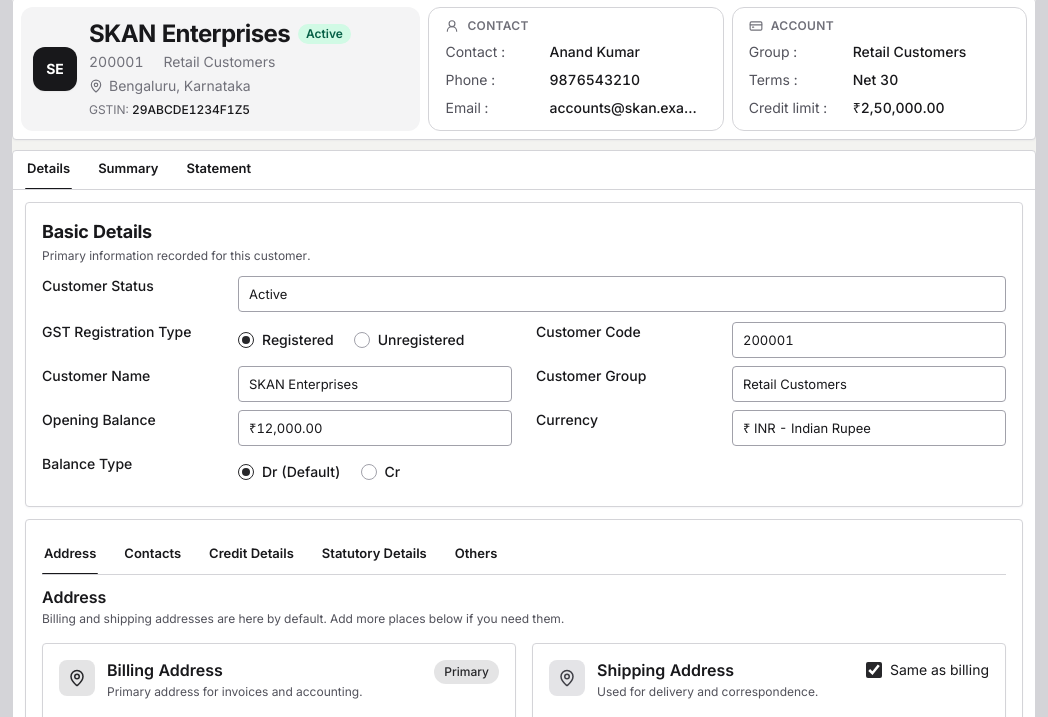
Test: CustomerDetailPage › shows the customer master fields saved by the creation form
Expected: the heading "SKAN Enterprises" is shown, [89,20,290,48]
Expected: the text "200001" is shown, [89,52,144,72]
Step 1. Click the tab "Contacts" → (153, 555), box [122,536,183,574]
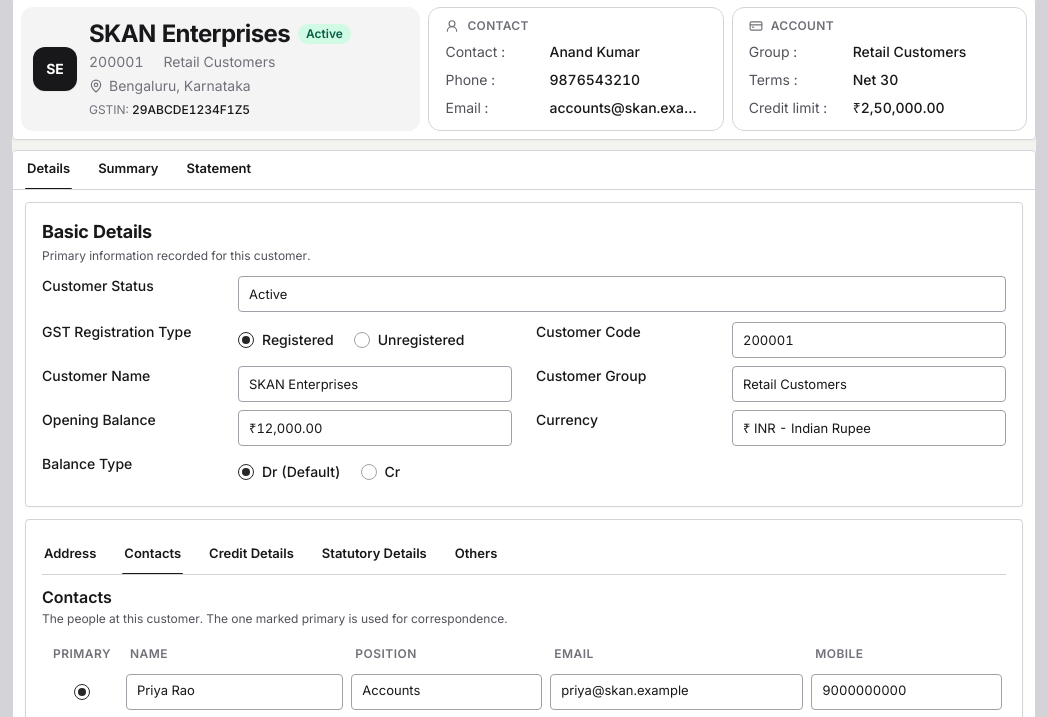
Expected: the text "Priya Rao" is shown, [126,674,343,710]
Step 2. Click the tab "Credit Details" → (251, 555), box [207,536,296,574]
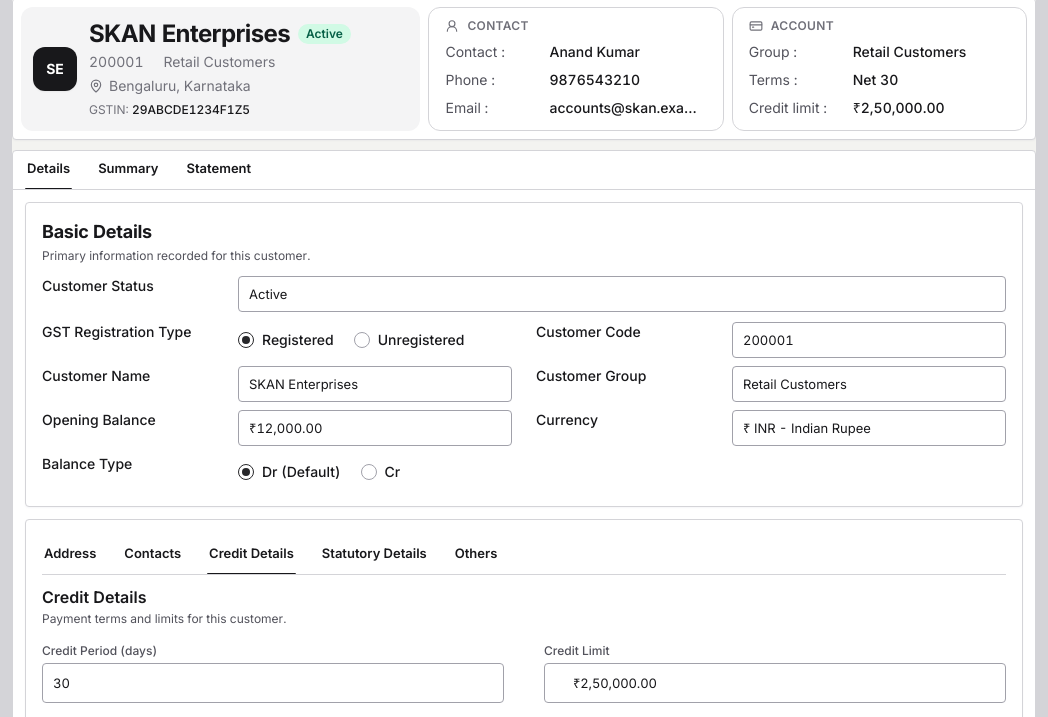
Expected: the text "Net 30" is shown, [853,71,898,88]
Step 3. Click the tab "Statutory Details" → (374, 555), box [320,536,429,574]
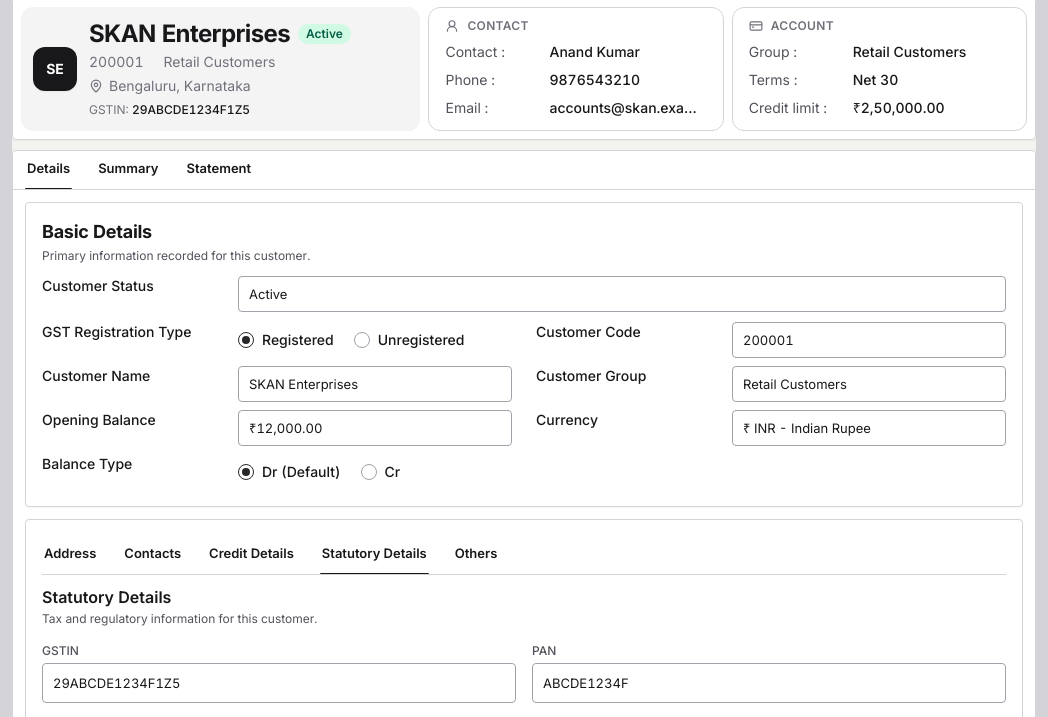
Expected: the field "ABCDE1234F" is shown, [532,663,1006,703]
Step 4. Click the tab "Others" → (476, 555), box [453,536,499,574]
(page scrolled)
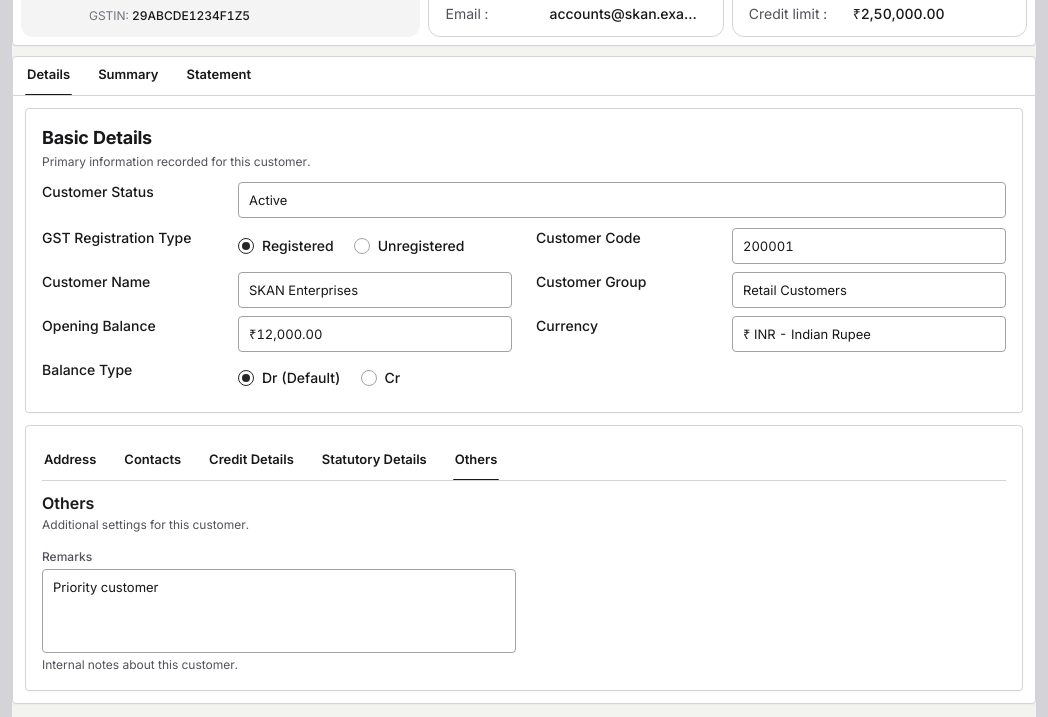
Expected: the field "Priority customer" is shown, [42,569,516,653]
